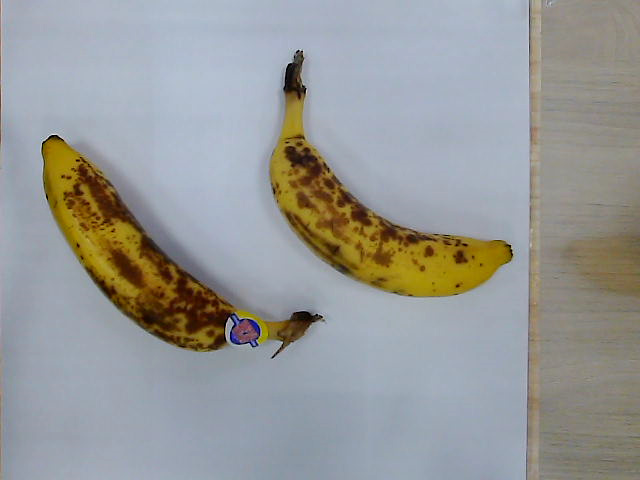rotten_banana: (40, 135, 319, 361), (268, 52, 514, 298)
